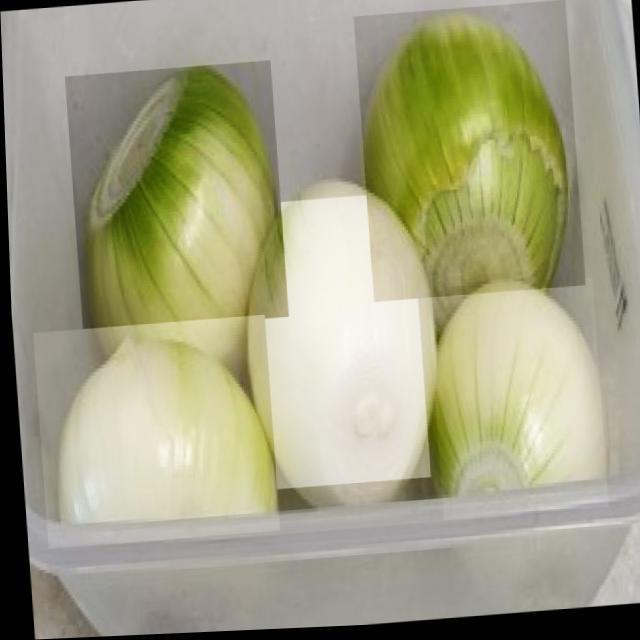Onion: (353, 4, 584, 306), (64, 62, 286, 334), (30, 316, 276, 548), (239, 195, 426, 492), (424, 282, 604, 524)
